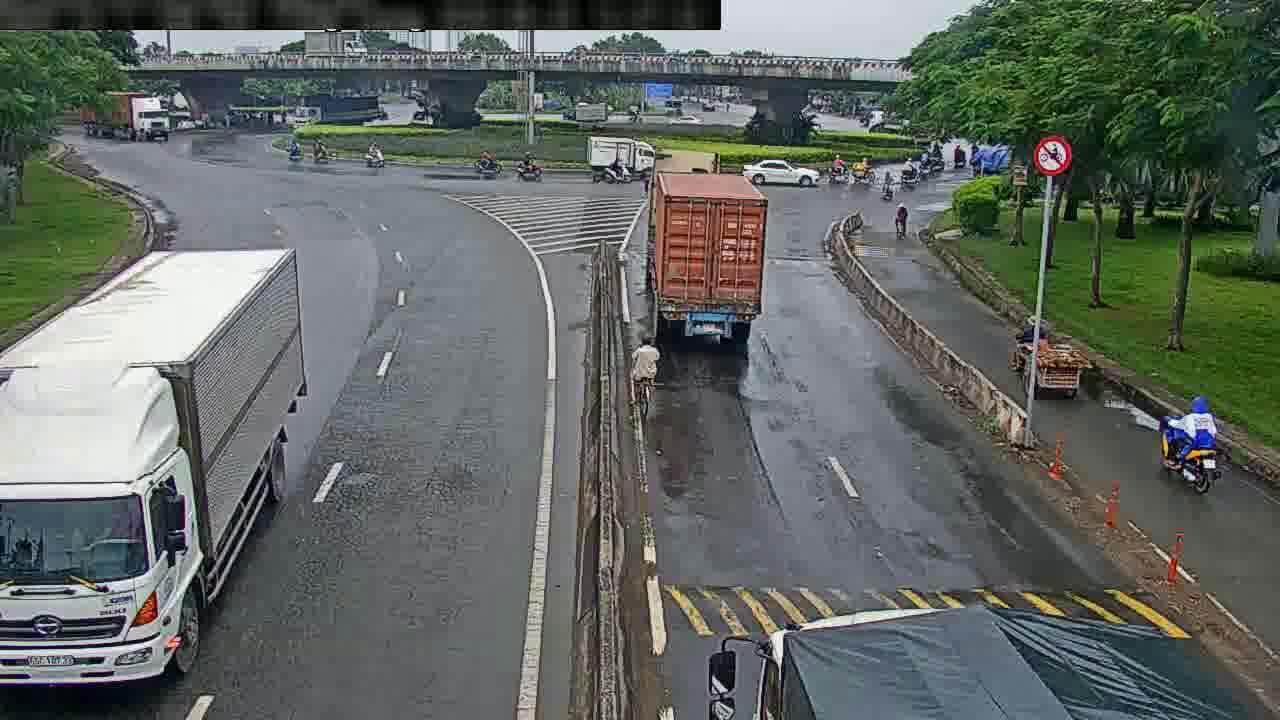car: (744, 161, 821, 186)
container: (0, 247, 305, 701), (648, 171, 767, 342), (93, 89, 174, 144)
motorbike: (1162, 394, 1218, 491), (625, 335, 657, 423), (892, 198, 910, 236)
